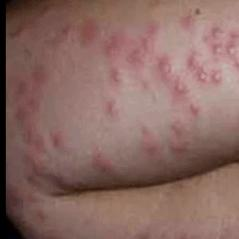Fleas: (13, 150, 80, 208), (180, 56, 225, 90), (11, 76, 41, 121), (23, 128, 64, 153), (213, 28, 238, 63), (153, 54, 179, 84), (5, 189, 37, 211), (142, 125, 162, 159), (25, 65, 51, 90), (169, 120, 186, 157), (92, 148, 114, 175), (184, 95, 207, 120), (105, 37, 127, 58), (134, 41, 153, 65), (101, 98, 123, 117), (82, 18, 96, 43), (110, 67, 126, 85), (169, 82, 188, 96), (182, 15, 197, 29)
